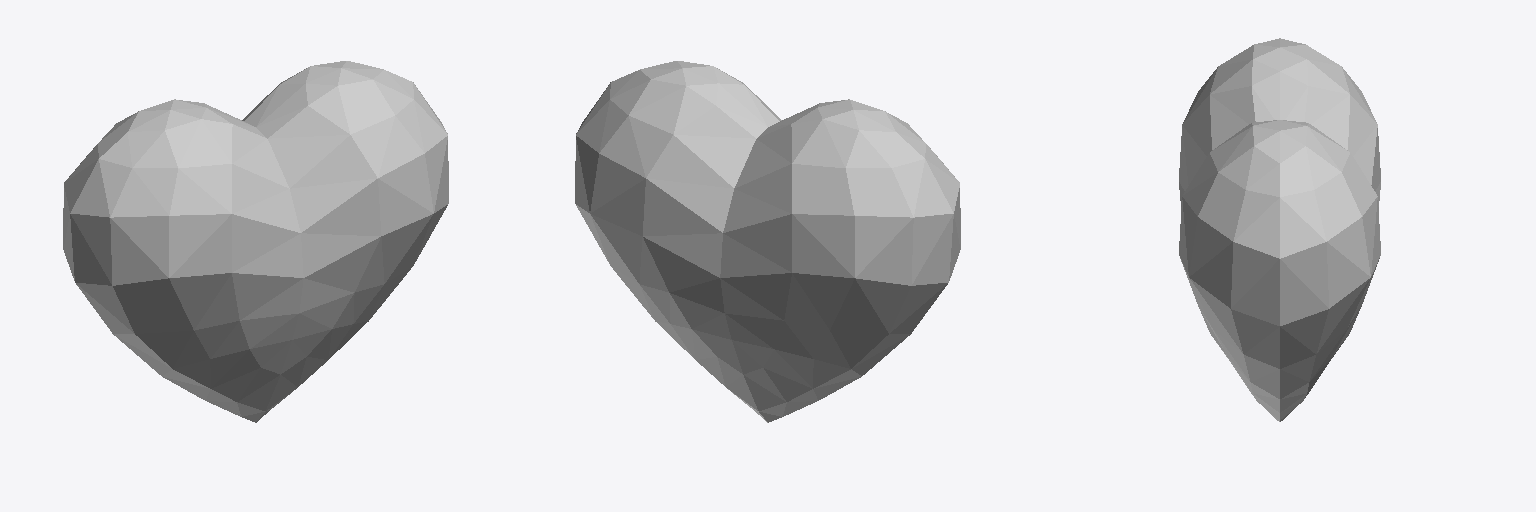
Rendered from heart.obj.
3 renders of one model, left to right at view 1: azimuth 30°, elevation 25°; view 2: azimuth 150°, elevation 25°; view 3: azimuth 270°, elevation 25°, orthographic.
Visible parts, largest first — view 1: Sphere; view 2: Sphere; view 3: Sphere.
Boxes of the visible parts, x1,y1,x2,y2 form: Sphere: [63, 61, 448, 422]; Sphere: [575, 61, 960, 422]; Sphere: [1179, 38, 1380, 421].
Size of the model in its own units: 0.649 by 0.557 by 0.3063.